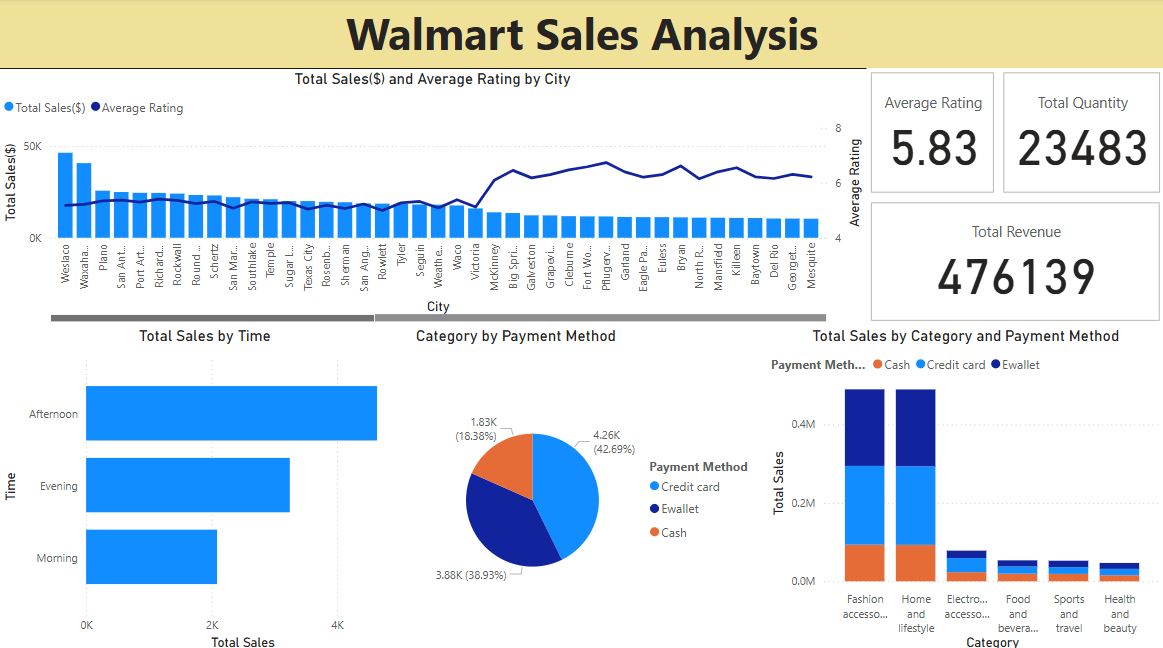

This screenshot's page, from the dashboard's own definition file:
{"tool":"powerbi","page":{"name":"Page 1","canvas":[1280,720],"ordinal":0},"visuals":[{"type":"textbox","box":[0,0,1280.3,78.2],"z":0},{"type":"cardVisual","fields":{"Data":["Sum(walmart_db walmart.quantity)"]},"box":[1097.3,77.1,182.4,142.4],"z":1000},{"type":"cardVisual","fields":{"Data":["Avg(walmart_db walmart.rating)"]},"box":[952,77.1,145.3,142.4],"z":2000},{"type":"cardVisual","fields":{"Data":["Sum(Query5.total_profit)"]},"box":[952,219.5,327.7,140.9],"z":3000},{"type":"lineClusteredColumnComboChart","fields":{"Category":["walmart_db walmart.city"],"Y":["Sum(walmart_db walmart.total)"],"Y2":["Avg(walmart_db walmart.rating)"]},"box":[0,78.6,952,281.7],"z":4000},{"type":"clusteredBarChart","fields":{"Category":["Query9.time_sales"],"Y":["Sum(Query9.invoice_counts)"]},"box":[0,360.3,452.3,360.3],"z":5000},{"type":"pieChart","fields":{"Category":["walmart_db walmart.payment_method"],"Y":["CountNonNull(walmart_db walmart.category)"]},"box":[452.3,360.3,390,360.3],"z":6000},{"type":"columnChart","fields":{"Category":["walmart_db walmart.category"],"Series":["walmart_db walmart.payment_method"],"Y":["Sum(walmart_db walmart.total)"]},"box":[842.3,360.3,437.4,360.3],"z":7000}]}

Visuals, with their boxes in screenshot pixels (x1, y1, x2, y2), scaled from the page's 1280x720 canvas onto the 1163x648 screenshot:
textbox: left=0, top=0, right=1162, bottom=70
cardVisual - Sum(walmart_db walmart.quantity): left=997, top=69, right=1162, bottom=198
cardVisual - Avg(walmart_db walmart.rating): left=865, top=69, right=997, bottom=198
cardVisual - Sum(Query5.total_profit): left=865, top=198, right=1162, bottom=324
lineClusteredColumnComboChart - walmart_db walmart.city x Sum(walmart_db walmart.total): left=0, top=71, right=865, bottom=324
clusteredBarChart - Query9.time_sales x Sum(Query9.invoice_counts): left=0, top=324, right=411, bottom=647
pieChart - walmart_db walmart.payment_method x CountNonNull(walmart_db walmart.category): left=411, top=324, right=765, bottom=647
columnChart - walmart_db walmart.category x walmart_db walmart.payment_method: left=765, top=324, right=1162, bottom=647
